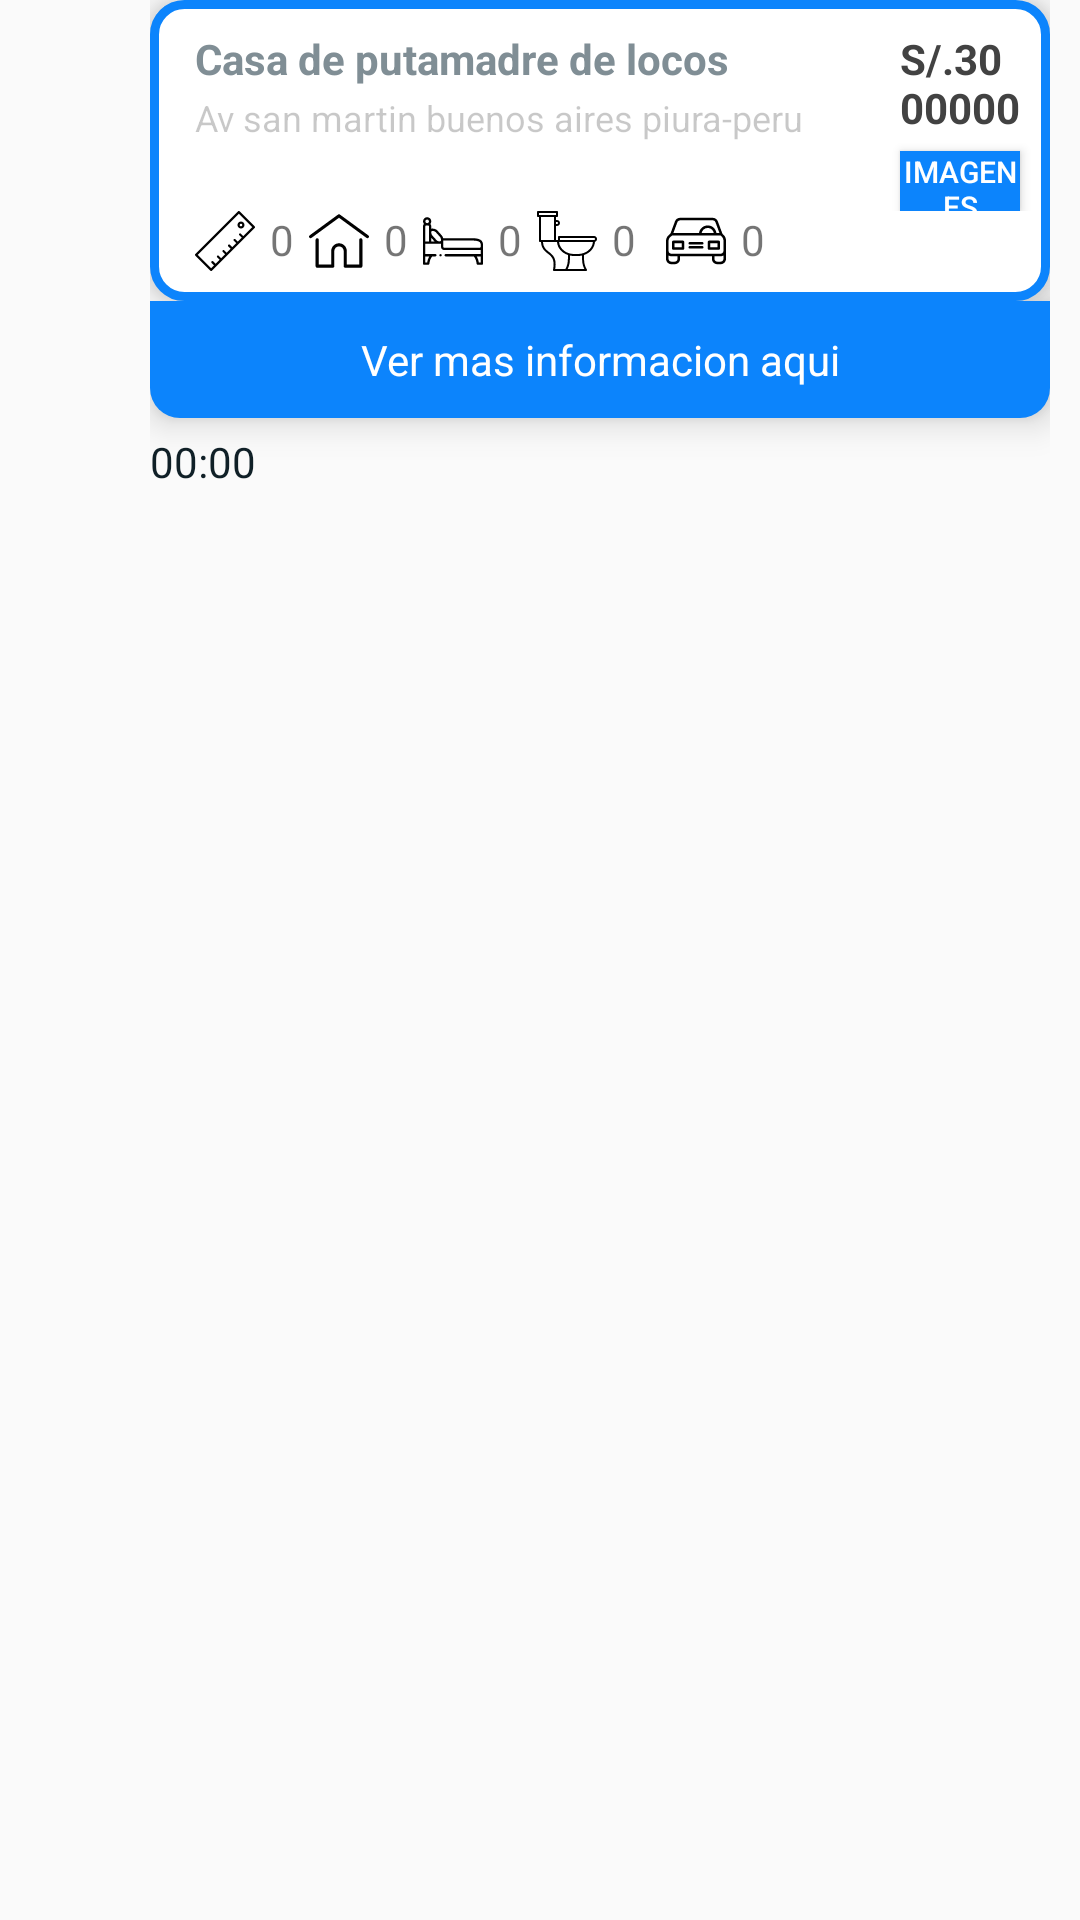

Icon bounding boxes for this 1080 × 1920 phone screenshot, format (x1, y1, x2, y2):
banos: (537, 211, 597, 271)
dormitorio: (423, 217, 483, 265)
estacionamiento: (666, 217, 726, 265)
techado: (309, 214, 369, 268)
